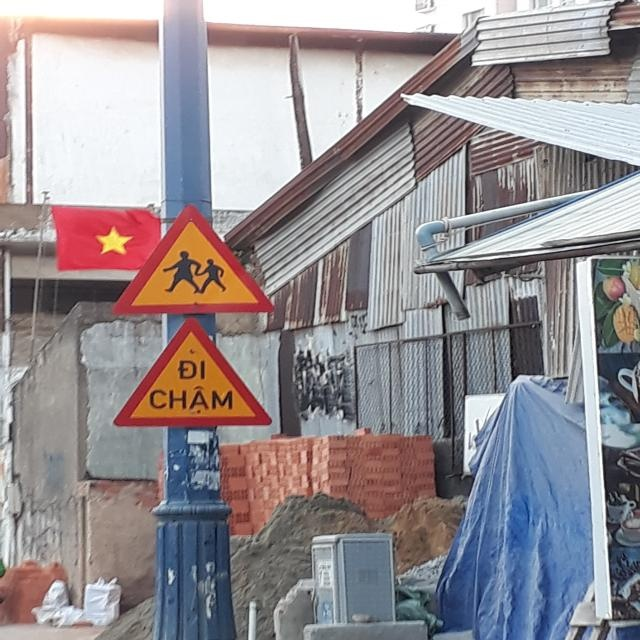bien_nguy_hiem: (107, 320, 281, 430), (116, 205, 276, 317)
